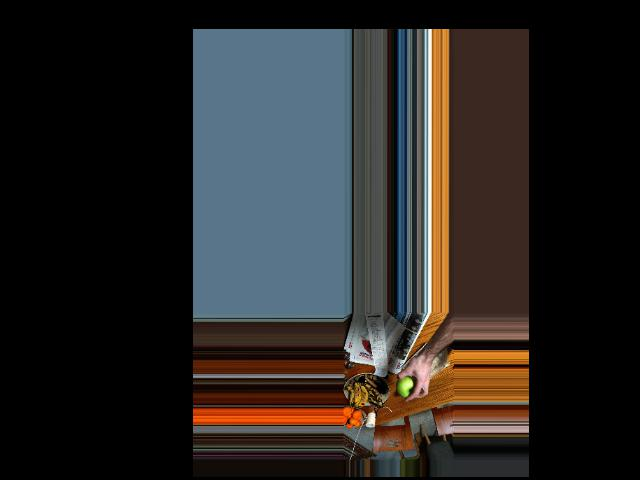apple: (394, 375, 417, 400)
